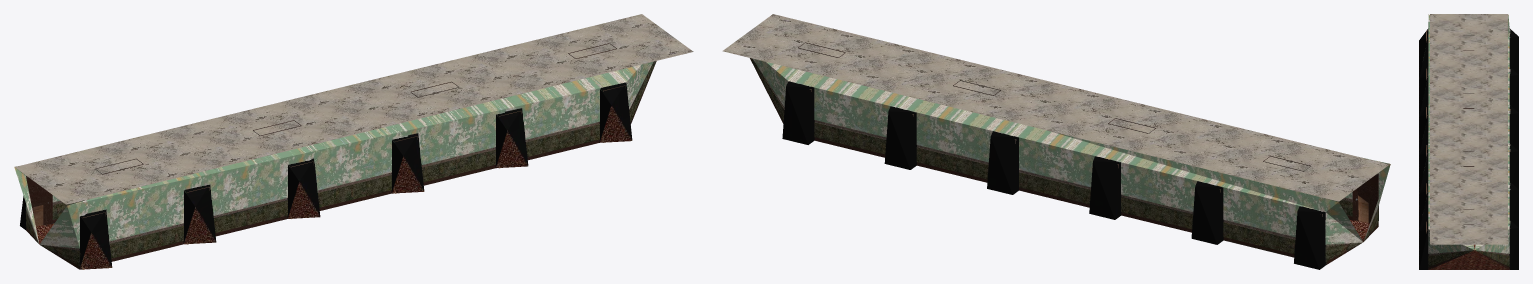
Rendered from garage_row_lod1.glb.
3 views of the same model, side by side, from view 1: azimuth 30°, elevation 25°; view 2: azimuth 150°, elevation 25°; view 3: azimuth 270°, elevation 25° (orthographic). The views are drawn at different scales.
Parts seen in each view (by area): view 1: garage_row; view 2: garage_row; view 3: garage_row.
Part boxes in pixels (x1,y1,x2,y2): garage_row: (14, 14, 693, 269); garage_row: (722, 14, 1390, 269); garage_row: (1419, 14, 1518, 269).
Size of the model in its own units: 26.94 by 2.76 by 4.9.
Materials: 1 (1 with a texture image).
